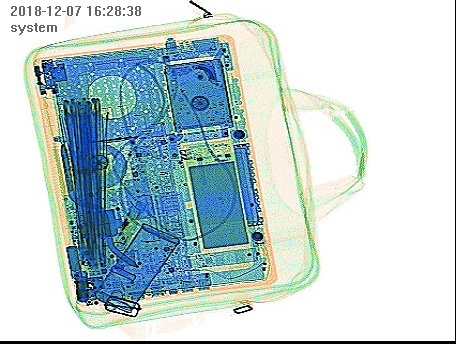lighter: (108, 203, 139, 258)
zippooil: (91, 221, 180, 315)
